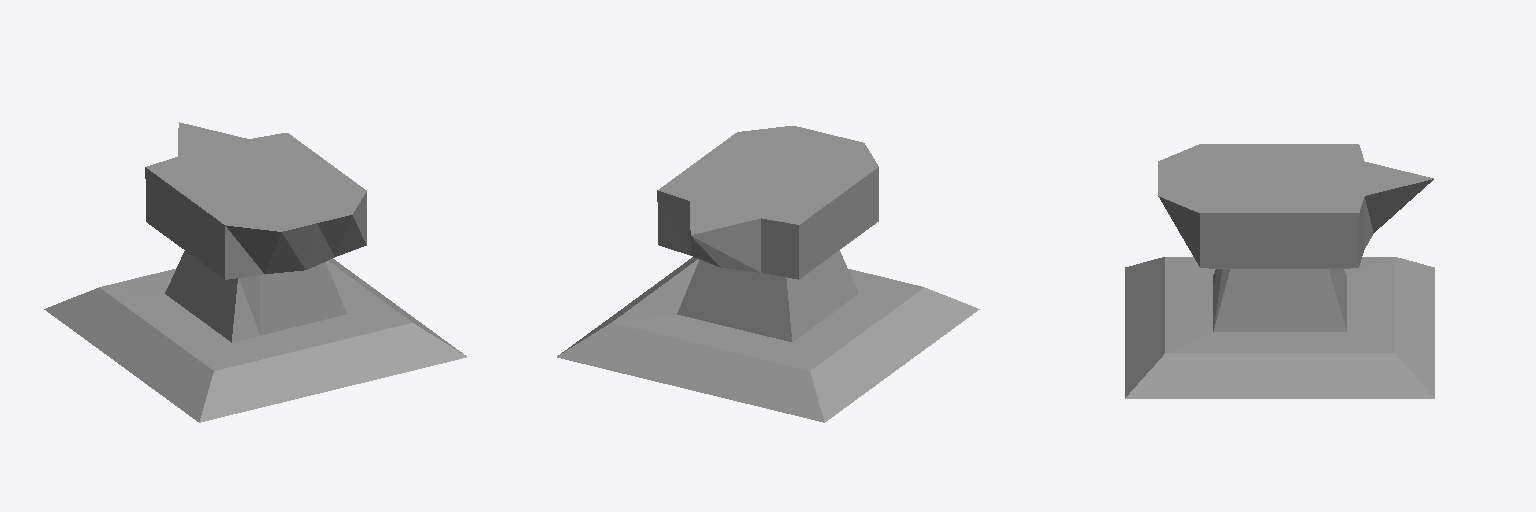
The model's file is ancientAnvil.obj.
The picture shows the model from 3 angles: view 1: azimuth 30°, elevation 25°; view 2: azimuth 150°, elevation 25°; view 3: azimuth 270°, elevation 25°; orthographic projection.
Parts seen in each view (by area): view 1: Cube; view 2: Cube; view 3: Cube.
Part boxes in pixels (left/top/right/bottom): Cube: left=44, top=122, right=466, bottom=422; Cube: left=557, top=126, right=979, bottom=422; Cube: left=1125, top=144, right=1434, bottom=398.
Size of the model in its own units: 1.01 by 0.5528 by 1.01.